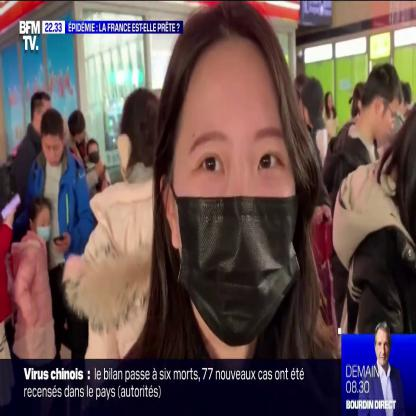Not_Wearing_Mask: (377, 94, 398, 148), (41, 136, 64, 166)
Wearing_Mask: (175, 121, 298, 347), (36, 213, 52, 244), (88, 145, 100, 164)
